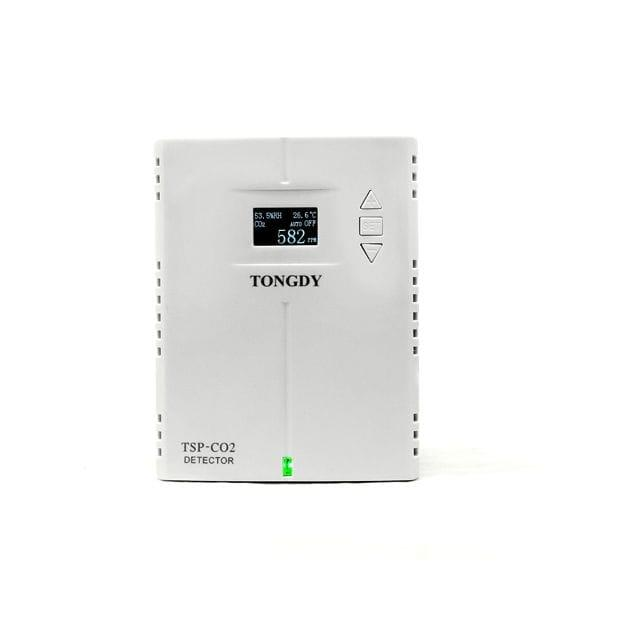Smoke-Detector: (148, 134, 424, 488)
